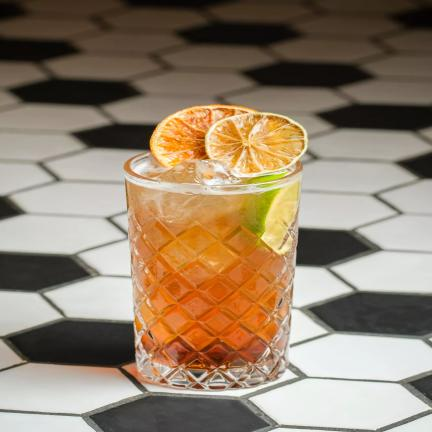container: (124, 142, 302, 391)
fluid: (129, 179, 302, 367)
fluid-surface: (130, 156, 301, 194)
